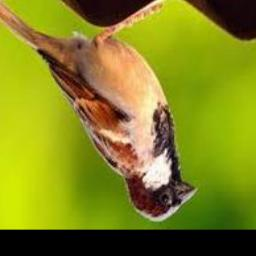Sparrow: (0, 1, 199, 222)
